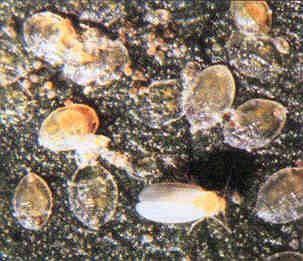whitefly: (134, 182, 232, 234)
